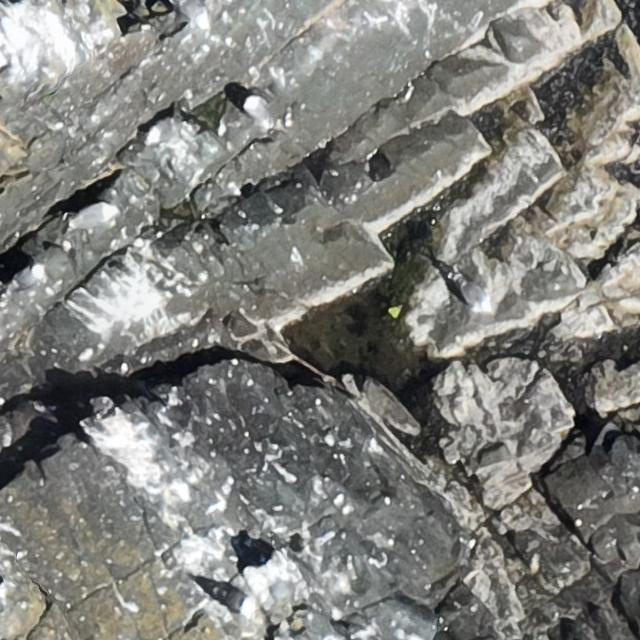umineko: (202, 584, 257, 620), (12, 263, 49, 292), (243, 95, 272, 128)
